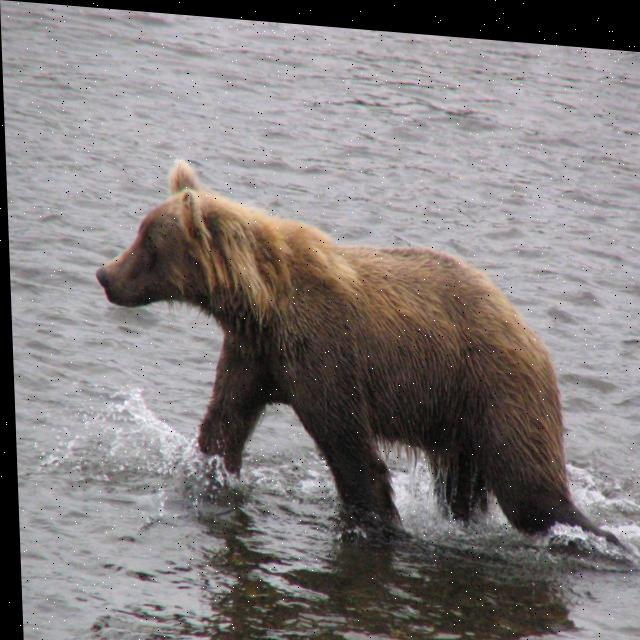bear face: (88, 147, 588, 530)
